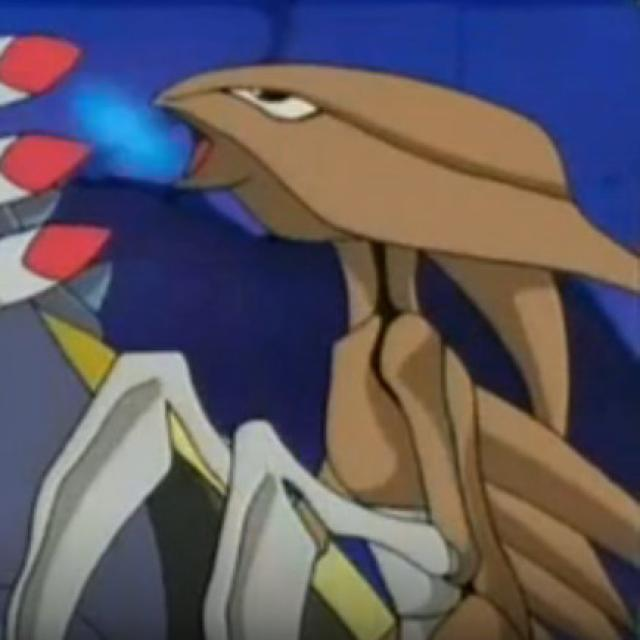Kabutops: (110, 38, 640, 640)
